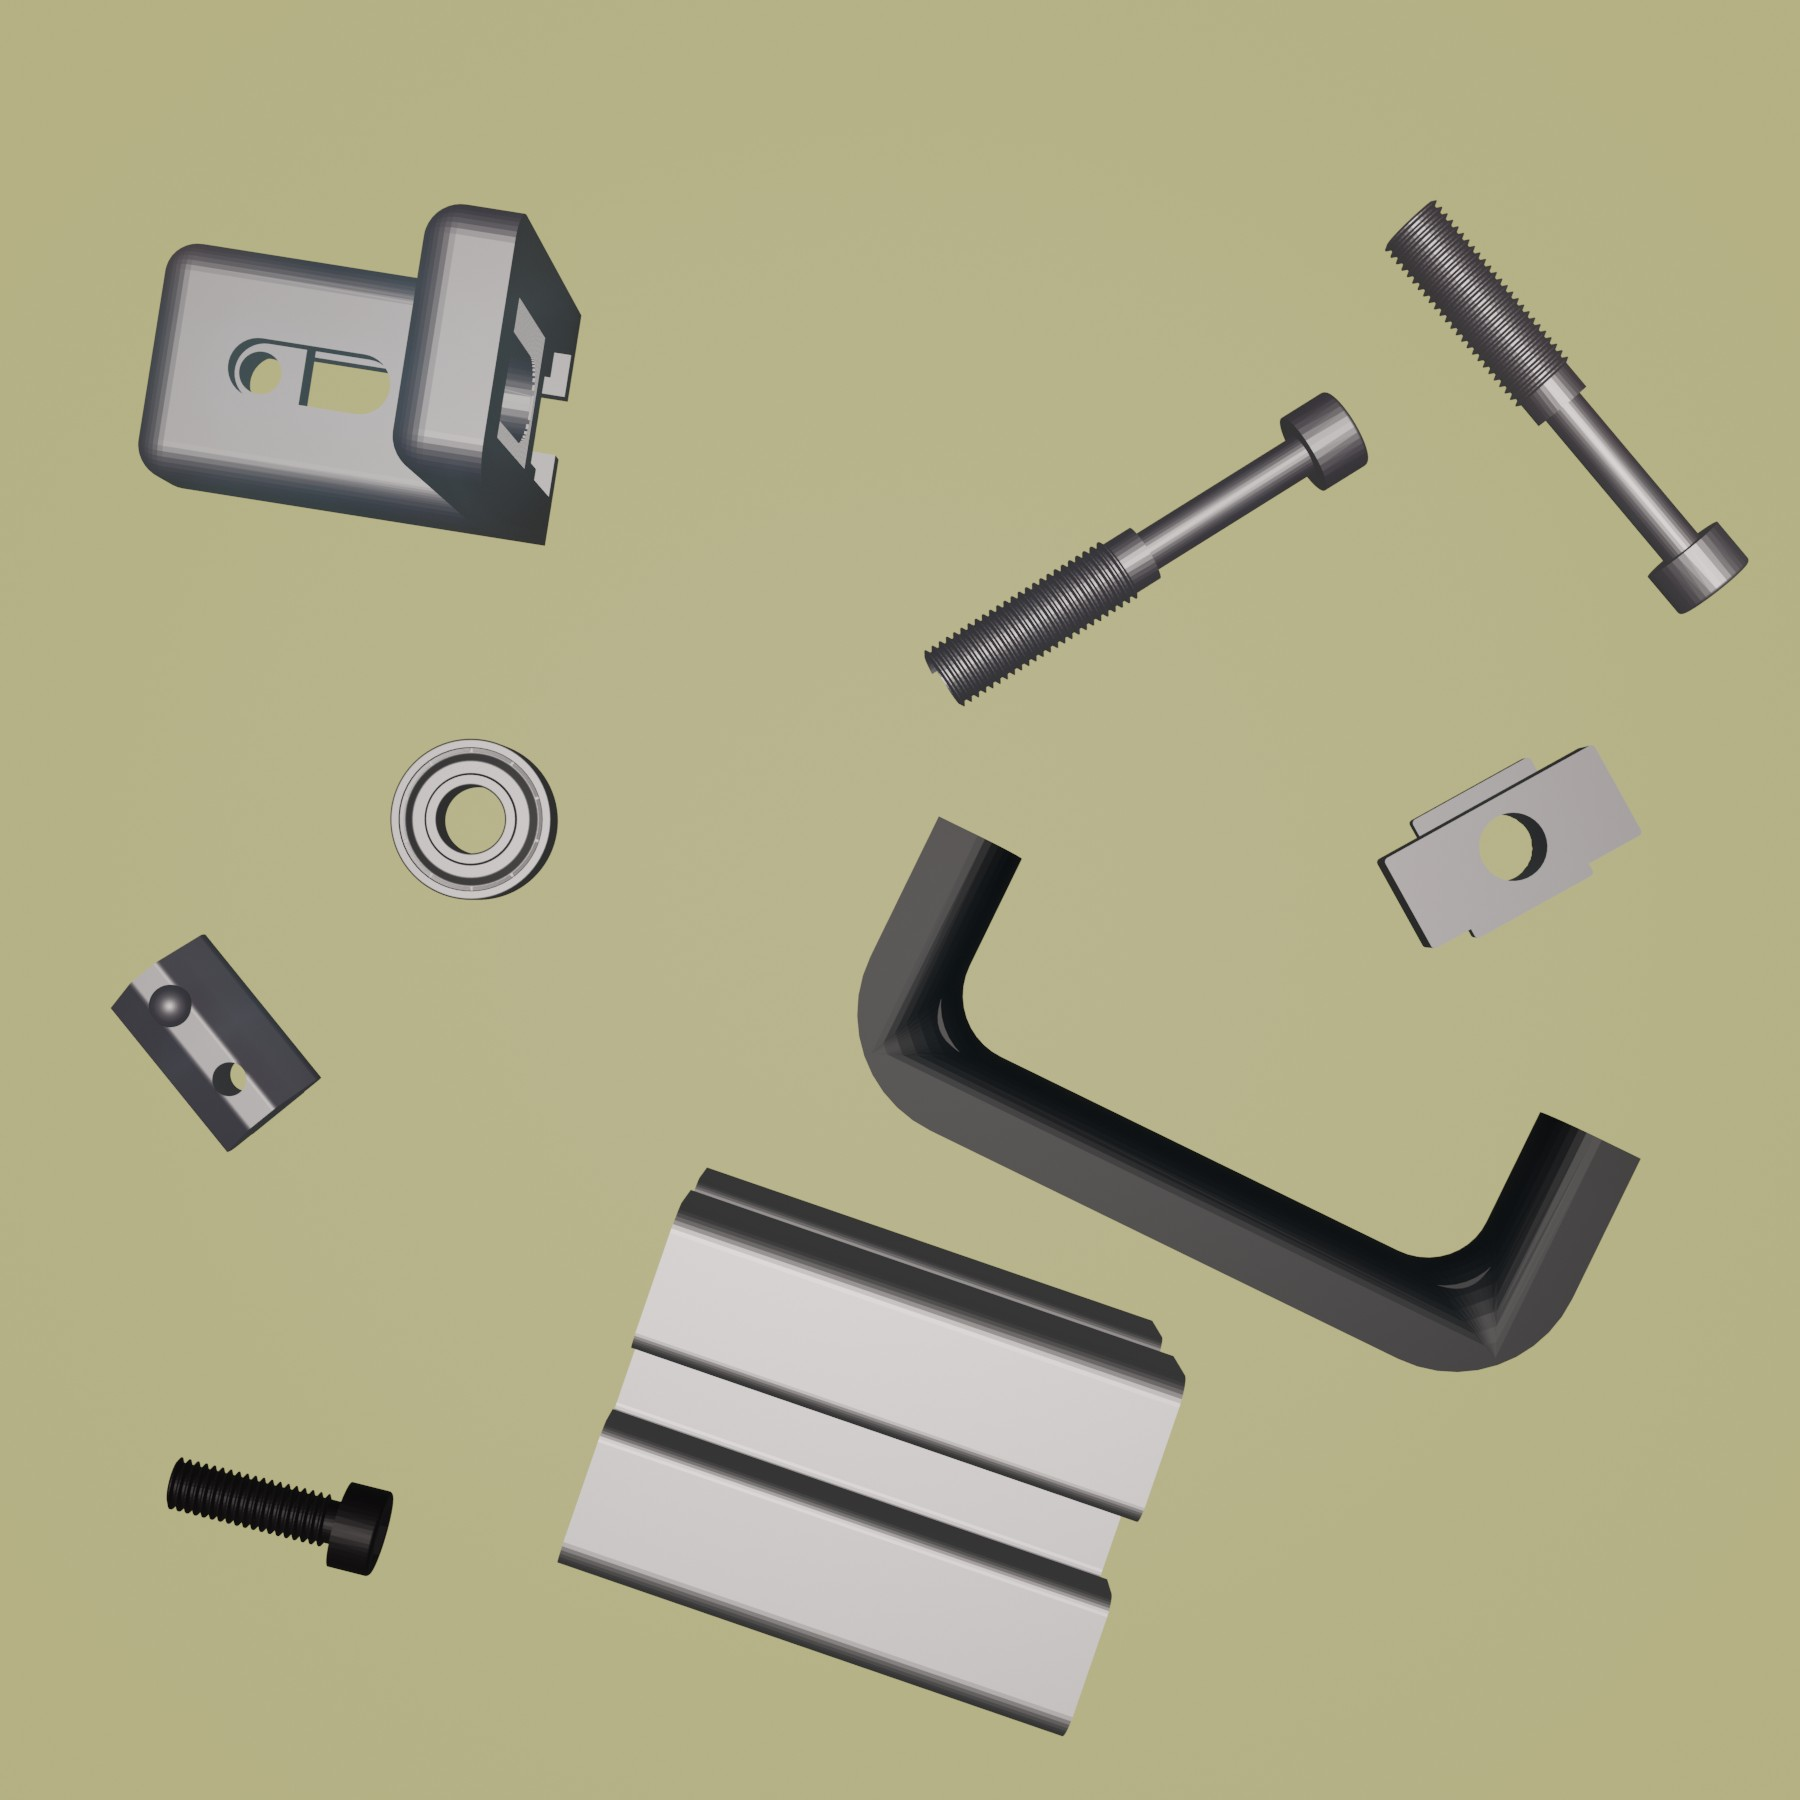Aluminium Extension: (551, 1159, 1188, 1739)
Ball Bearing: (386, 735, 562, 905)
Multiwinkel: (134, 199, 582, 551)
Pull Handle: (852, 816, 1643, 1373)
Shoulder Socket Head Cap Screw: (1381, 196, 1751, 616), (923, 389, 1371, 709)
Socket Head Cap Screw: (162, 1452, 397, 1577)
T Nut Square: (1373, 742, 1648, 949)
T Spring Nut: (105, 930, 323, 1155)
